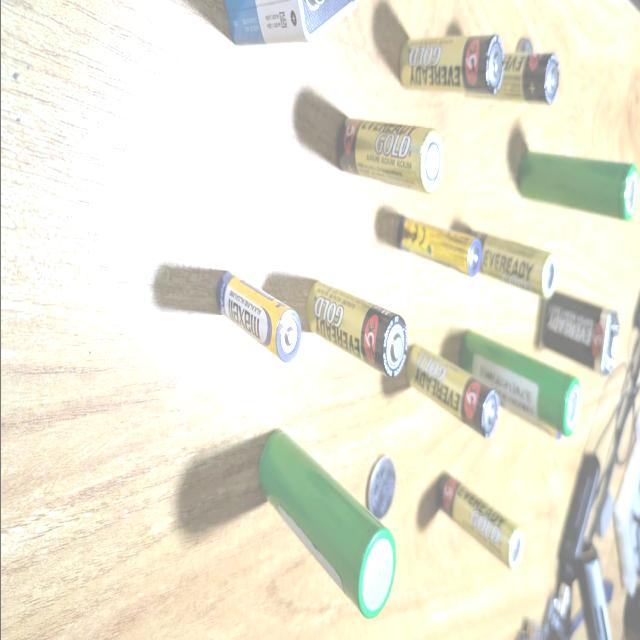9V: (221, 0, 362, 53), (539, 292, 619, 378)
AA: (305, 280, 405, 378), (404, 342, 498, 440), (435, 469, 524, 568), (338, 117, 440, 195), (397, 31, 502, 96), (467, 228, 555, 298), (468, 50, 558, 106)
AAA: (212, 265, 303, 373), (388, 209, 483, 286)
COIN: (366, 453, 396, 524)
